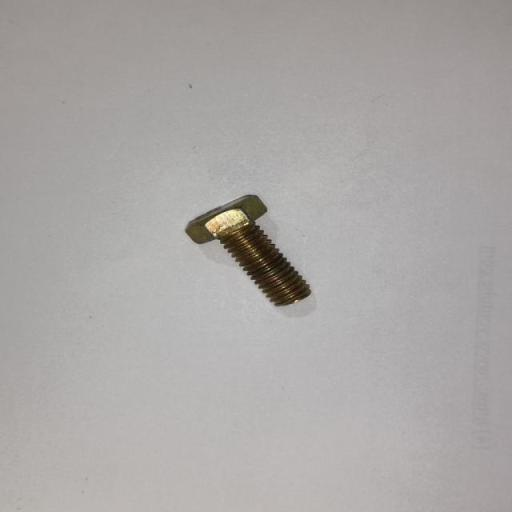Bolt: (184, 194, 312, 308)
